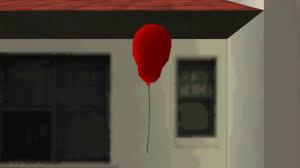red: (131, 21, 172, 85)
